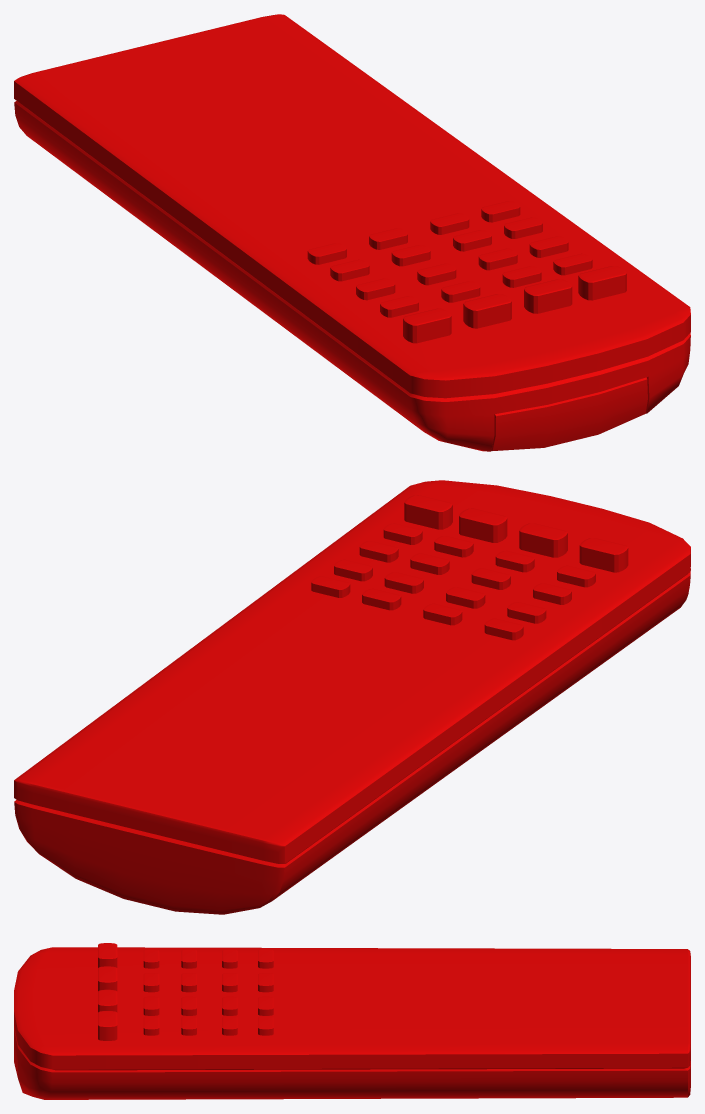
File: Remote_1.fbx
3 views of the same model, one above another, from view 1: azimuth 30°, elevation 25°; view 2: azimuth 150°, elevation 25°; view 3: azimuth 270°, elevation 25° (orthographic). The views are drawn at different scales.
Visible parts, largest first — view 1: REMOTE_1; view 2: REMOTE_1; view 3: REMOTE_1.
Part boxes in pixels (x1=…): REMOTE_1: x1=14, y1=14, x2=690, y2=451; REMOTE_1: x1=14, y1=480, x2=690, y2=914; REMOTE_1: x1=14, y1=943, x2=690, y2=1099.
Size of the model in its own units: 3.62 by 1.39 by 9.56.
